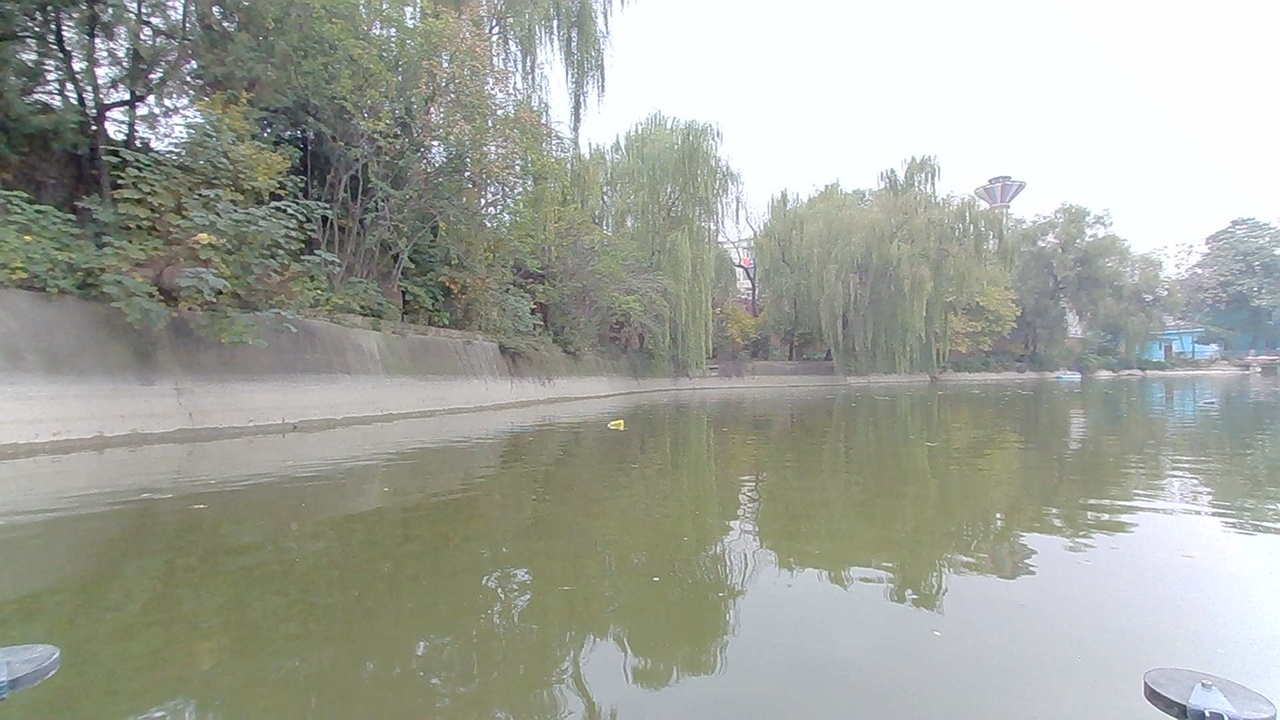bottle: (603, 413, 637, 436), (1193, 391, 1222, 411)
